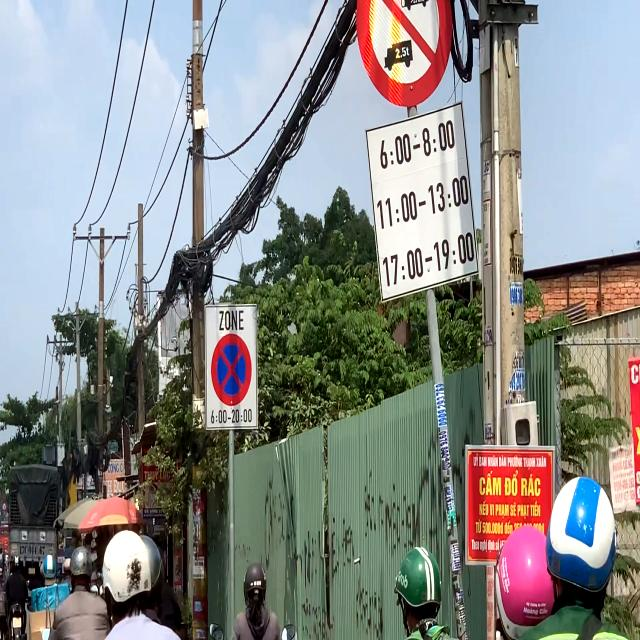P.130: (211, 334, 252, 406)
